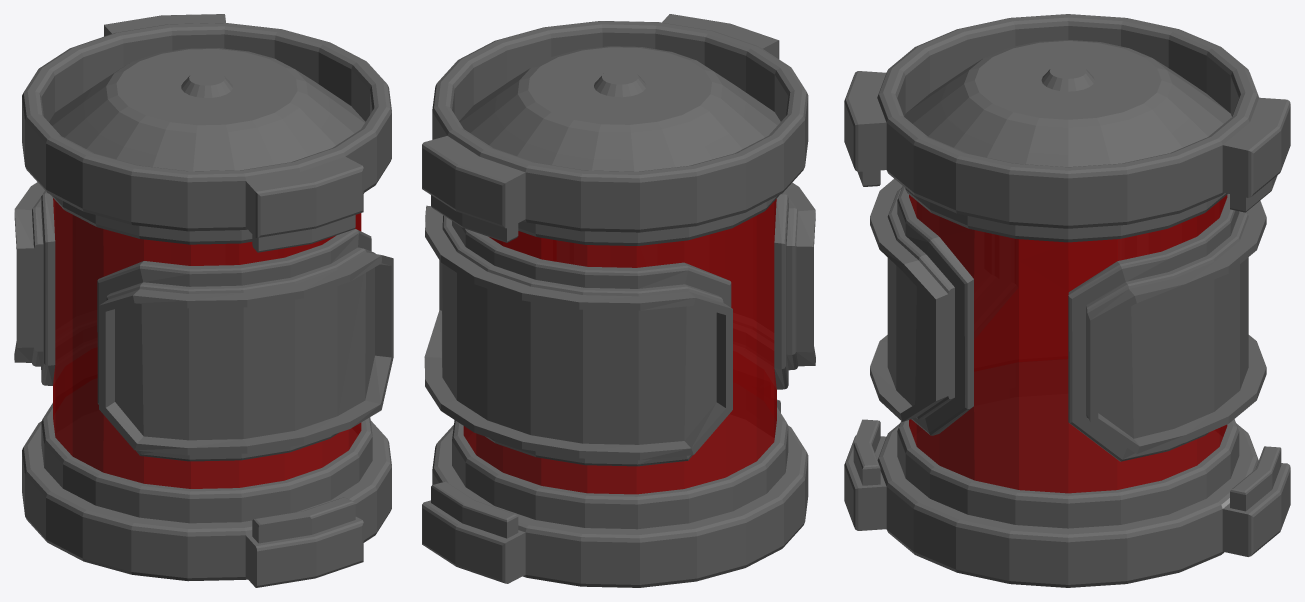
Rendered from fuelrocketman.fbx.
The picture shows the model from 3 angles, left to right: view 1: azimuth 30°, elevation 25°; view 2: azimuth 150°, elevation 25°; view 3: azimuth 270°, elevation 25°; orthographic projection. The views are drawn at different scales.
Visible parts, largest first — view 1: fuel; view 2: fuel; view 3: fuel.
Part boxes in pixels (bbox=[...]): fuel: bbox=[14, 14, 393, 587]; fuel: bbox=[422, 14, 815, 587]; fuel: bbox=[844, 14, 1290, 587].
Bounding box in the file's own units: 1.54 × 1.93 × 1.78.
